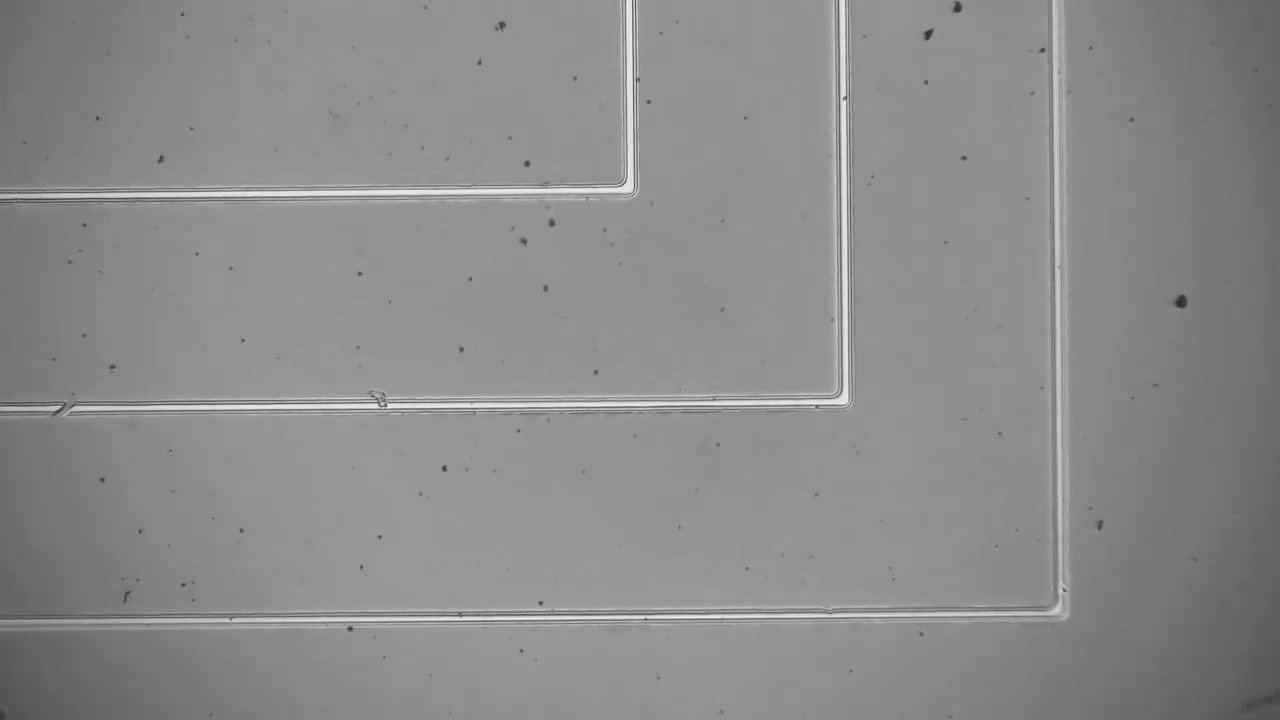open: (39, 380, 87, 434)
stains_enbedded: (355, 380, 402, 425)
